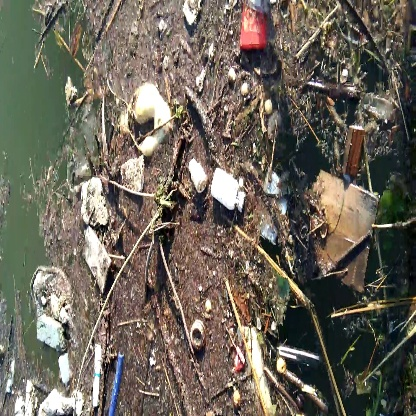branch: (30, 2, 74, 53)
plastic-garbage: (30, 261, 79, 352)
